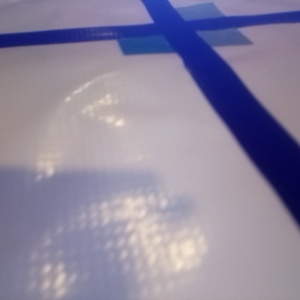bottom_right: (1, 172, 215, 300)
top_right: (204, 10, 271, 35)
